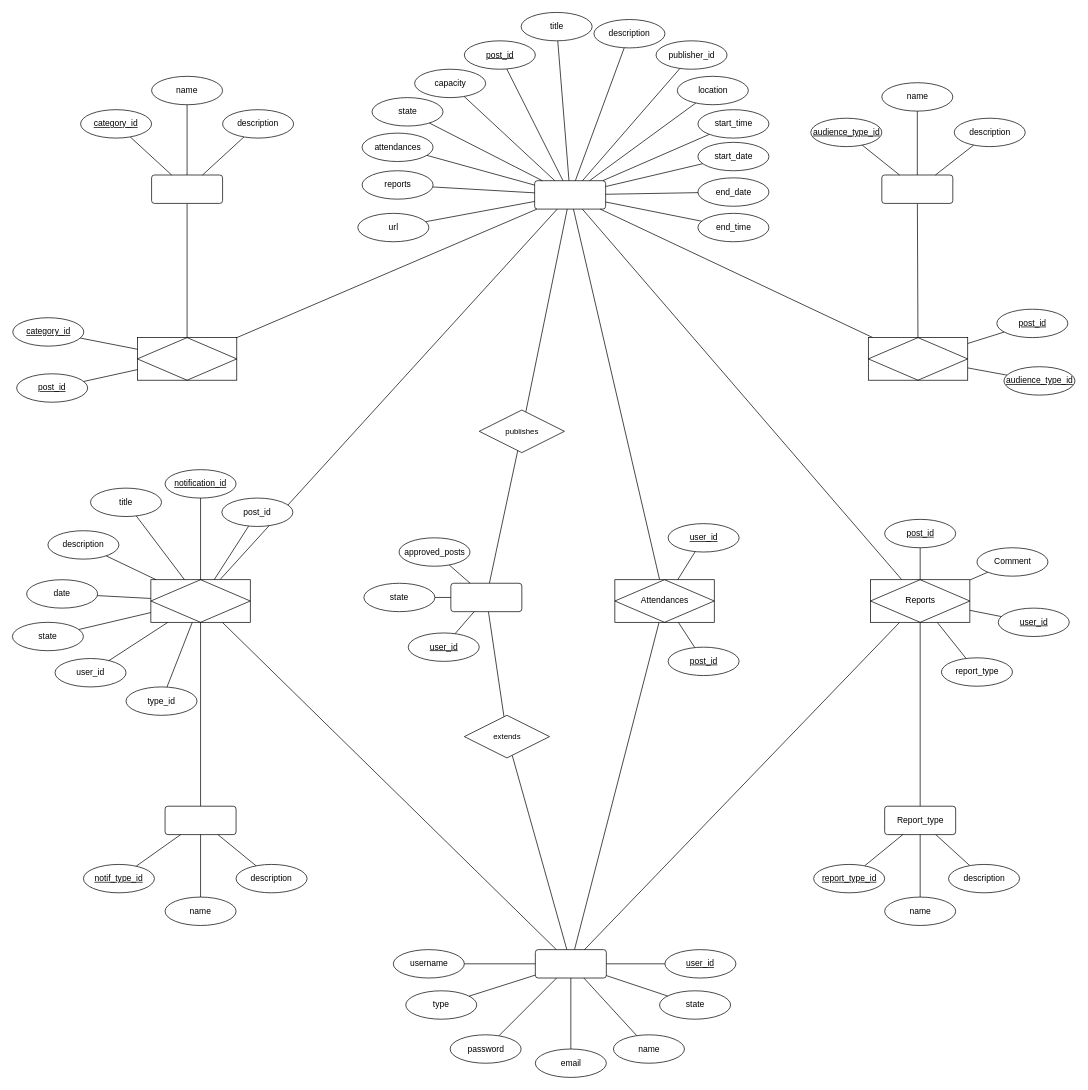
Image size: 1088x1090. Some labels were removed from this diagram. Here are the shapes that lost their labels. From the top down, the centre of each, then its label:
(187,188): Categories
(570,194): Post
(917,188): Audience_type
(187,358): Post_Cat
(918,358): Post_Audience
(200,600): Notifications
(486,597): Publishers
(200,820): Notif_type
(570,963): Users
